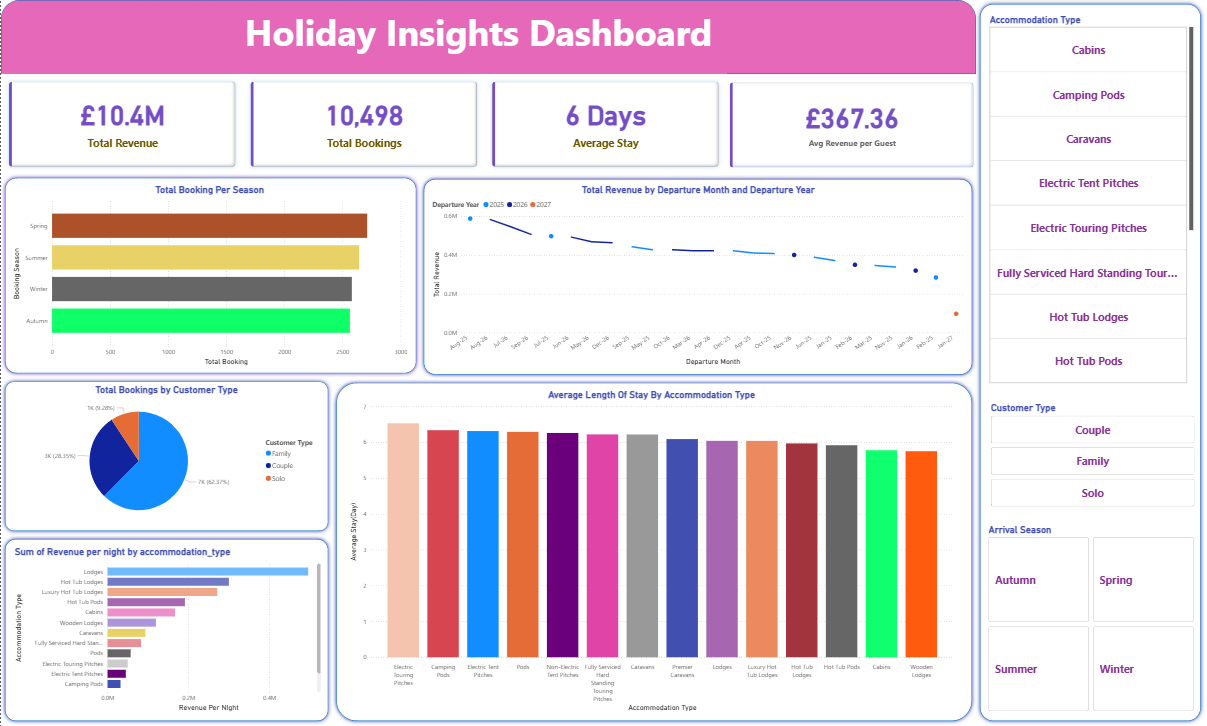

The dashboard page shown, as its layout file describes it:
{"tool":"powerbi","page":{"name":"Page 1","canvas":[5000,3000],"ordinal":0},"visuals":[{"type":"shape","box":[0,0,1950,148],"z":0},{"type":"cardVisual","fields":{"Data":["customer_booking holiday_bookings_full.Total_Revenue","customer_booking holiday_bookings_full.Total_Bookings","customer_booking holiday_bookings_full.Avg_Length_of_Stay"]},"box":[0,148,1452,202],"z":1000},{"type":"cardVisual","fields":{"Data":["customer_booking holiday_bookings_full.avg_Revenue_per_Guest"]},"box":[1452,160,498,180],"z":2000},{"type":"shape","box":[0,348.6,838.6,407.1],"z":3000},{"type":"clusteredBarChart","title":"Total Booking Per Season","fields":{"Category":["customer_booking holiday_bookings_full.booking_season"],"Y":["customer_booking holiday_bookings_full.Total_Bookings"]},"box":[18.6,367.1,800,368.6],"z":4000},{"type":"shape","box":[837.1,350,1112.9,407.1],"z":5000},{"type":"shape","box":[662.5,757.5,1287.5,692.5],"z":6000},{"type":"shape","box":[0,1070,662.5,380],"z":7000},{"type":"columnChart","title":"Average Length Of Stay By Accommodation Type","fields":{"Category":["customer_booking holiday_bookings_full.accommodation_type"],"Y":["customer_booking holiday_bookings_full.Avg_Length_of_Stay"]},"box":[692.5,777.5,1217.5,650],"z":8000},{"type":"shape","box":[0,755,662.5,315],"z":9000},{"type":"lineChart","fields":{"Category":["customer_booking holiday_bookings_full.departure_month"],"Y":["customer_booking holiday_bookings_full.Total_Revenue"],"Series":["customer_booking holiday_bookings_full.departure_year"]},"box":[857.1,367.1,1074.3,368.6],"z":10000},{"type":"pieChart","fields":{"Y":["customer_booking holiday_bookings_full.Total_Bookings"],"Category":["customer_booking holiday_bookings_full.customer_type"]},"box":[17.5,767.5,627.5,287.5],"z":11000},{"type":"barChart","title":"Sum of Revenue per night by accommodation_type","fields":{"Category":["customer_booking holiday_bookings_full.accommodation_type"],"Y":["Sum(customer_booking holiday_bookings_full.revenue_per_night)"]},"box":[22.5,1092.5,622.5,335],"z":12000},{"type":"textbox","box":[397.5,10,1115,302.5],"z":13000},{"type":"shape","box":[1950,0,457.5,1450],"z":14000},{"type":"advancedSlicerVisual","title":"Accommodation Type","fields":{"Values":["customer_booking holiday_bookings_full.accommodation_type"]},"box":[1972.5,27.5,417.5,750],"z":15000},{"type":"advancedSlicerVisual","fields":{"Values":["customer_booking holiday_bookings_full.customer_type"]},"box":[1975,805,417.5,215],"z":16000},{"type":"advancedSlicerVisual","title":"Arrival Season","fields":{"Values":["customer_booking holiday_bookings_full.arrival_season"]},"box":[1970,1047.5,420,380],"z":17000}]}

Visuals, with their boxes in screenshot pixels (x1, y1, x2, y2), scaled from the page's 5000x3000 canvas onto the 1207x726 screenshot:
shape: <region>0, 0, 471, 36</region>
cardVisual - customer_booking holiday_bookings_full.Total_Revenue x customer_booking holiday_bookings_full.Total_Bookings: <region>0, 36, 351, 85</region>
cardVisual - customer_booking holiday_bookings_full.avg_Revenue_per_Guest: <region>351, 39, 471, 82</region>
shape: <region>0, 84, 202, 183</region>
"Total Booking Per Season" clusteredBarChart: <region>4, 89, 198, 178</region>
shape: <region>202, 85, 471, 183</region>
shape: <region>160, 183, 471, 351</region>
shape: <region>0, 259, 160, 351</region>
"Average Length Of Stay By Accommodation Type" columnChart: <region>167, 188, 461, 345</region>
shape: <region>0, 183, 160, 259</region>
lineChart - customer_booking holiday_bookings_full.departure_month x customer_booking holiday_bookings_full.Total_Revenue: <region>207, 89, 466, 178</region>
pieChart - customer_booking holiday_bookings_full.Total_Bookings x customer_booking holiday_bookings_full.customer_type: <region>4, 186, 156, 255</region>
"Sum of Revenue per night by accommodation_type" barChart: <region>5, 264, 156, 345</region>
textbox: <region>96, 2, 365, 76</region>
shape: <region>471, 0, 581, 351</region>
"Accommodation Type" advancedSlicerVisual: <region>476, 7, 577, 188</region>
advancedSlicerVisual - customer_booking holiday_bookings_full.customer_type: <region>477, 195, 578, 247</region>
"Arrival Season" advancedSlicerVisual: <region>476, 253, 577, 345</region>
